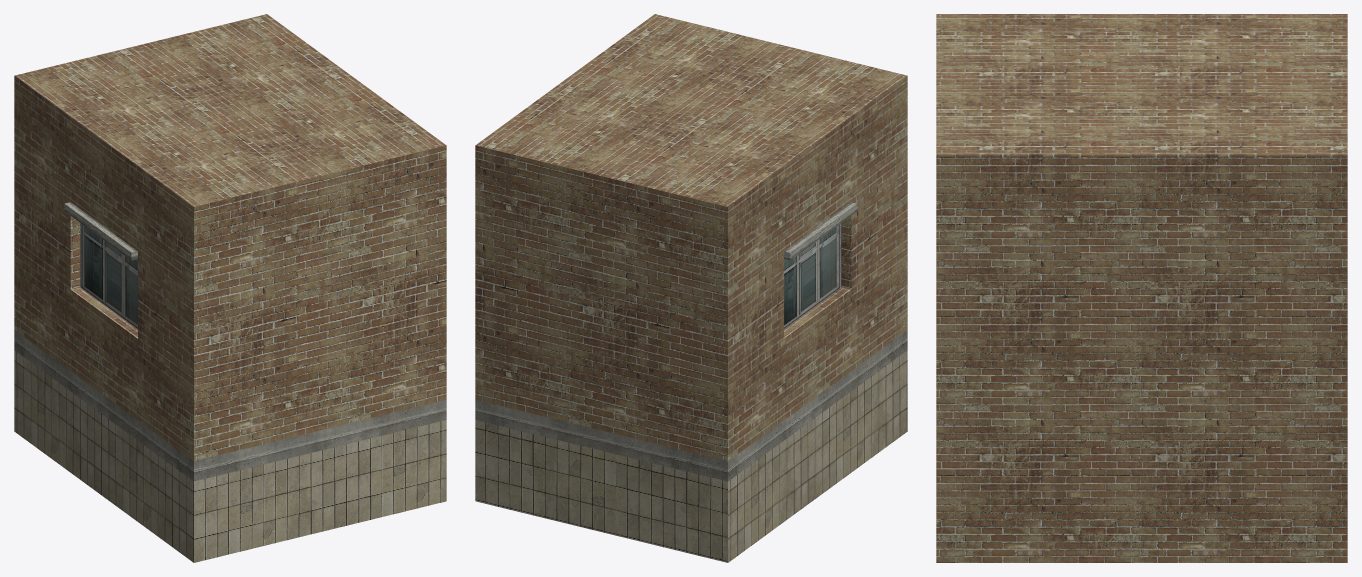
File: civ_base_b.FBX
3 renders of one model, left to right at view 1: azimuth 30°, elevation 25°; view 2: azimuth 150°, elevation 25°; view 3: azimuth 270°, elevation 25°, orthographic. The views are drawn at different scales.
Parts seen in each view (by area): view 1: civ_base_b; view 2: civ_base_b; view 3: civ_base_b.
Boxes of the visible parts, left/top/right/bottom form: civ_base_b: left=14, top=14, right=446, bottom=562; civ_base_b: left=475, top=14, right=907, bottom=562; civ_base_b: left=936, top=14, right=1347, bottom=562.
Bounding box in the file's own units: 333 × 438 × 400.
